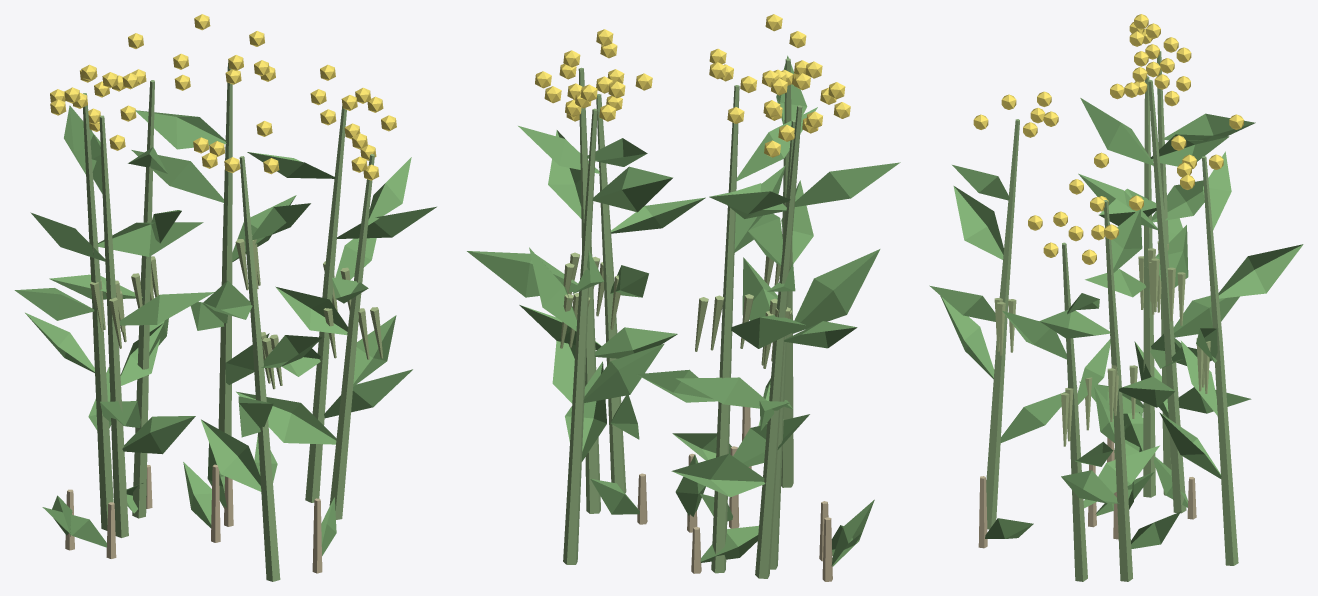
Rendered from plant-rapeseed-b.glb.
The picture shows the model from 3 angles, left to right: view 1: azimuth 30°, elevation 25°; view 2: azimuth 150°, elevation 25°; view 3: azimuth 270°, elevation 25°; orthographic projection. The views are drawn at different scales.
Visible parts, largest first — view 1: plant-rapeseed-b_full_leafA, plant-rapeseed-b_full_stemGreen, plant-rapeseed-b_fruit_rapeFlower, plant-rapeseed-b_fruit_rapePod, plant-rapeseed-b_low_leafA, plant-rapeseed-b_low_stemDry; view 2: plant-rapeseed-b_full_leafA, plant-rapeseed-b_full_stemGreen, plant-rapeseed-b_fruit_rapeFlower, plant-rapeseed-b_low_leafA, plant-rapeseed-b_fruit_rapePod, plant-rapeseed-b_low_stemDry; view 3: plant-rapeseed-b_full_leafA, plant-rapeseed-b_full_stemGreen, plant-rapeseed-b_fruit_rapeFlower, plant-rapeseed-b_fruit_rapePod, plant-rapeseed-b_low_leafA, plant-rapeseed-b_low_stemDry.
Part boxes in pixels (x1=…): plant-rapeseed-b_full_leafA: x1=14, y1=105, x2=436, y2=491; plant-rapeseed-b_full_stemGreen: x1=83, y1=62, x2=374, y2=581; plant-rapeseed-b_fruit_rapeFlower: x1=50, y1=14, x2=396, y2=180; plant-rapeseed-b_fruit_rapePod: x1=90, y1=235, x2=382, y2=389; plant-rapeseed-b_low_leafA: x1=42, y1=435, x2=336, y2=555; plant-rapeseed-b_low_stemDry: x1=65, y1=464, x2=322, y2=573; plant-rapeseed-b_full_leafA: x1=467, y1=55, x2=900, y2=497; plant-rapeseed-b_full_stemGreen: x1=563, y1=58, x2=802, y2=578; plant-rapeseed-b_fruit_rapeFlower: x1=535, y1=14, x2=850, y2=157; plant-rapeseed-b_low_leafA: x1=590, y1=433, x2=874, y2=566; plant-rapeseed-b_fruit_rapePod: x1=560, y1=252, x2=791, y2=368; plant-rapeseed-b_low_stemDry: x1=637, y1=406, x2=832, y2=581; plant-rapeseed-b_full_leafA: x1=929, y1=98, x2=1303, y2=508; plant-rapeseed-b_full_stemGreen: x1=986, y1=51, x2=1238, y2=581; plant-rapeseed-b_fruit_rapeFlower: x1=973, y1=14, x2=1243, y2=264; plant-rapeseed-b_fruit_rapePod: x1=994, y1=241, x2=1210, y2=446; plant-rapeseed-b_low_leafA: x1=985, y1=412, x2=1187, y2=549; plant-rapeseed-b_low_stemDry: x1=978, y1=438, x2=1196, y2=548.
Bounding box in the file's own units: 0.9872 × 1.24 × 0.9047.
